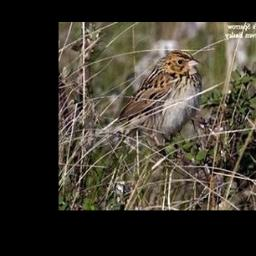Sparrow: (79, 49, 206, 154)
